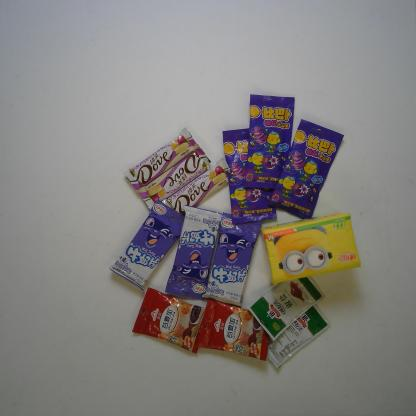Candy: (267, 119, 344, 219), (108, 200, 188, 294), (202, 210, 263, 307), (165, 204, 224, 302), (222, 127, 282, 222), (245, 92, 296, 190)
Chocolate: (137, 148, 215, 210), (124, 126, 199, 190), (164, 159, 235, 220)
Instant Drink: (131, 288, 209, 353), (195, 299, 270, 362)
Seasoner: (249, 268, 325, 340), (258, 302, 329, 368)
Tissue: (260, 212, 360, 285)
